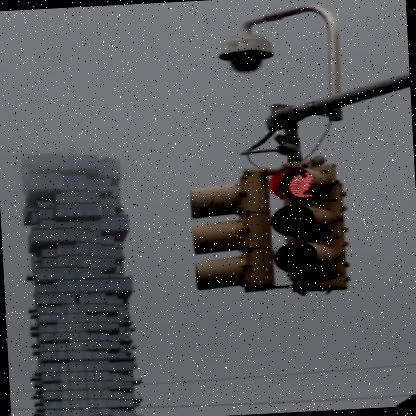trafficlight: (267, 154, 357, 298), (178, 164, 276, 290)
